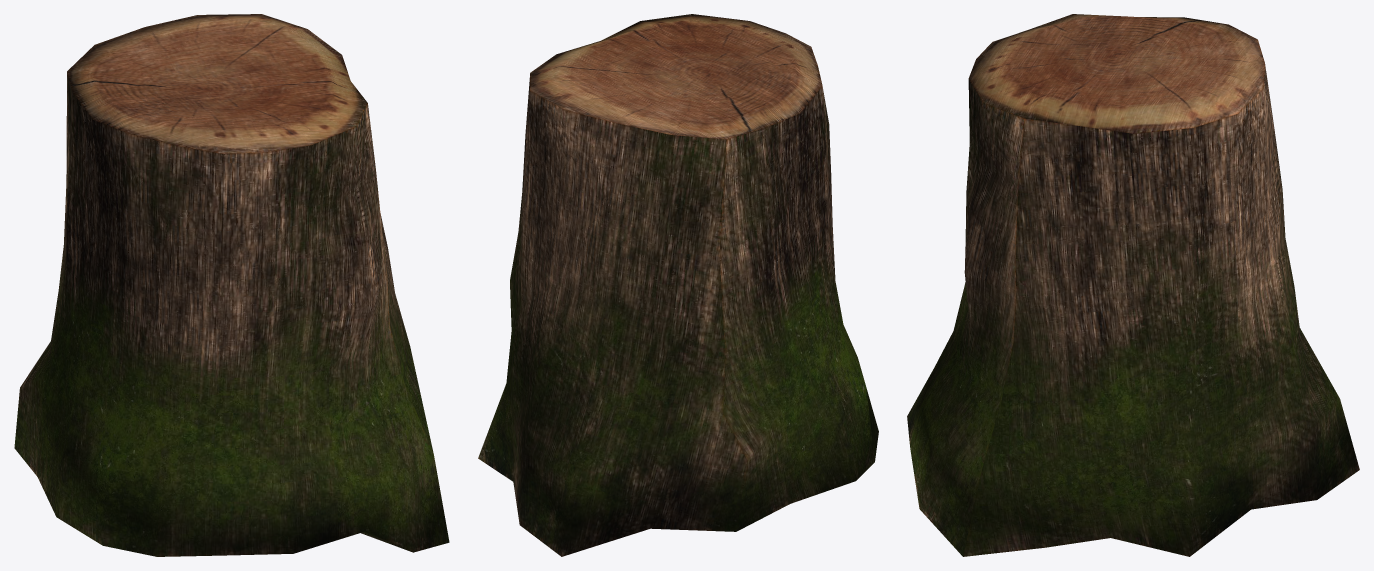
File: LogStump_7.fbx
3 renders of one model, left to right at view 1: azimuth 30°, elevation 25°; view 2: azimuth 150°, elevation 25°; view 3: azimuth 270°, elevation 25°, orthographic. The views are drawn at different scales.
Parts seen in each view (by area): view 1: LogStump_7; view 2: LogStump_7; view 3: LogStump_7.
Part boxes in pixels (x1,y1,x2,y2): LogStump_7: (14,14,449,556); LogStump_7: (478,14,878,556); LogStump_7: (907,14,1359,556).
Bounding box in the file's own units: 134 × 162 × 155.
